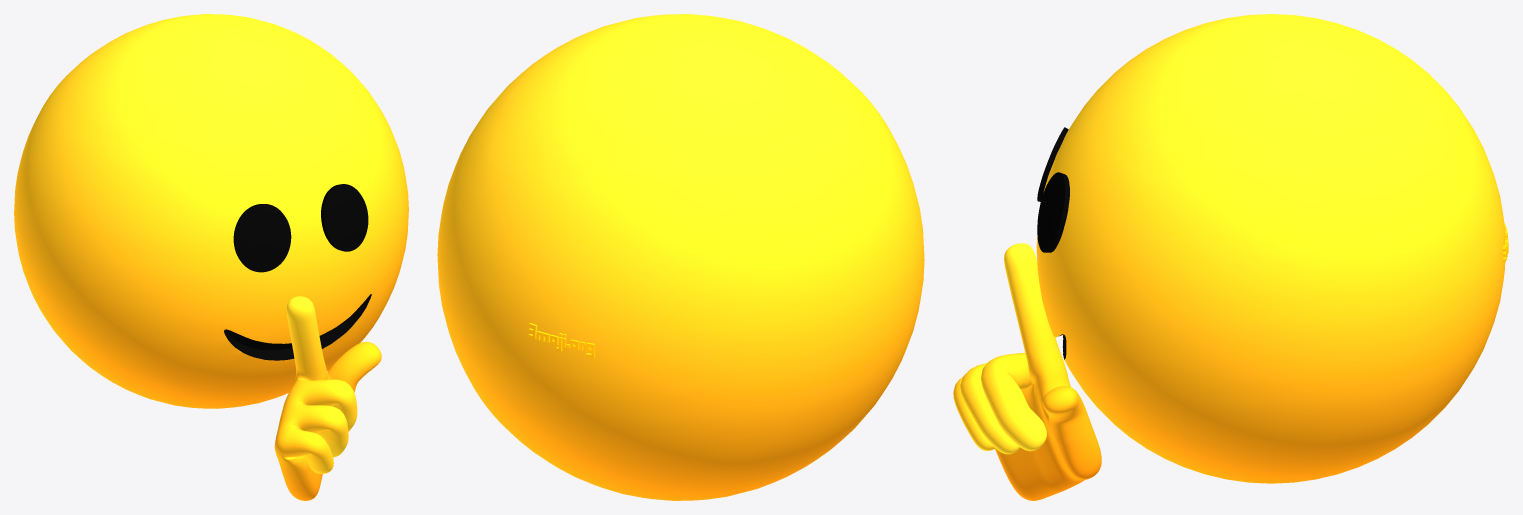
3 views of the same model, side by side, from view 1: azimuth 30°, elevation 25°; view 2: azimuth 150°, elevation 25°; view 3: azimuth 270°, elevation 25° (orthographic). The views are drawn at different scales.
Visible parts, largest first — view 1: Shushing Face; view 2: Shushing Face; view 3: Shushing Face.
Boxes of the visible parts, <box> form: Shushing Face: <box>14,14,408,500</box>; Shushing Face: <box>437,14,924,500</box>; Shushing Face: <box>953,14,1508,500</box>.
Size of the model in its own units: 1.69 by 1.85 by 2.
Materials: 1 (1 with a texture image).
